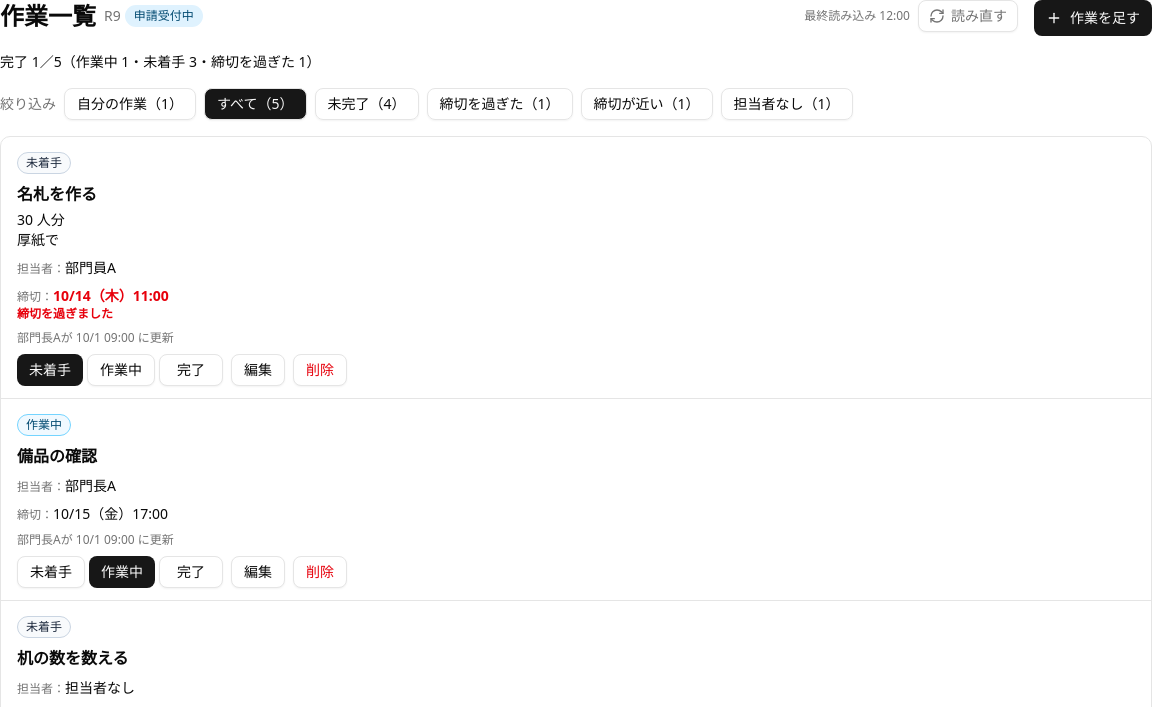
Test: T20 作業一覧：作る（部門長以上。動的 import のダイアログ） › 時刻だけは誤り（締切の日付を入れてください）
The image size is (1152, 707).
Check: the 1st list item with test id "tasks-item" is shown, box left=1, top=137, right=1151, bottom=399
Click the button with test id "tasks-add".
click(1093, 18)  # box left=1034, top=0, right=1151, bottom=36
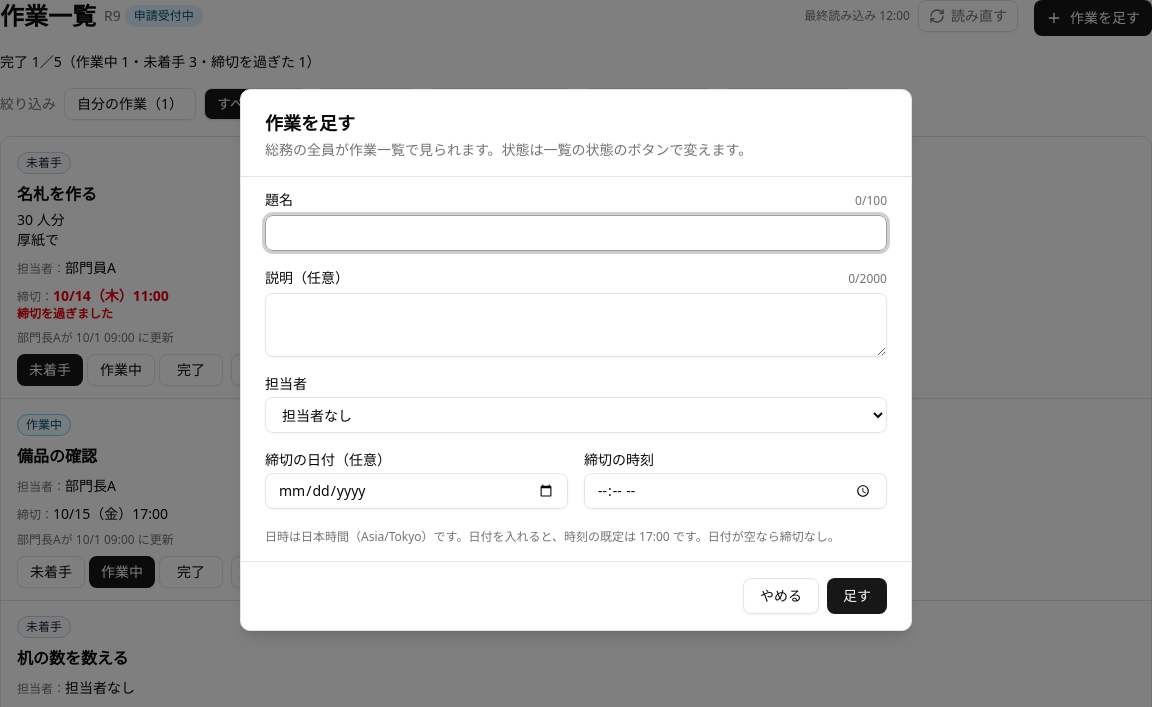
Type "名札" into the field with test id "task-title".
click(576, 233); type("名札")  # box left=265, top=215, right=887, bottom=251
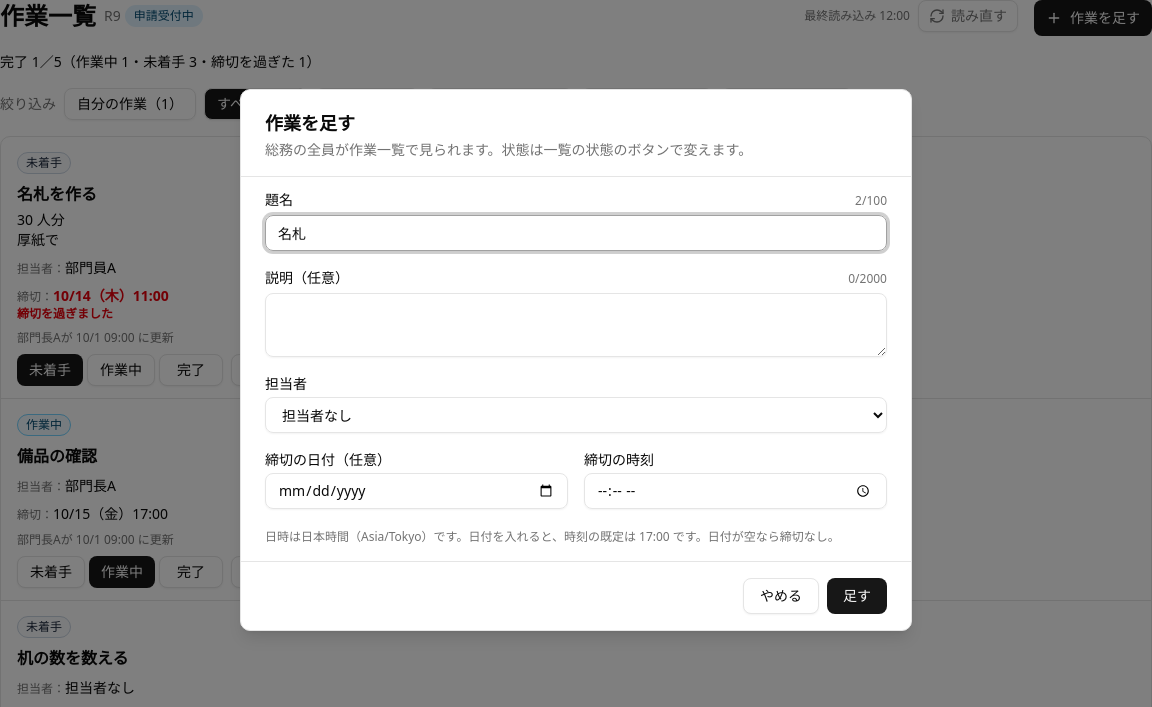
Type "09:00" into the time field with test id "task-due-time".
click(736, 491); type("09:00")  # box left=584, top=473, right=887, bottom=509
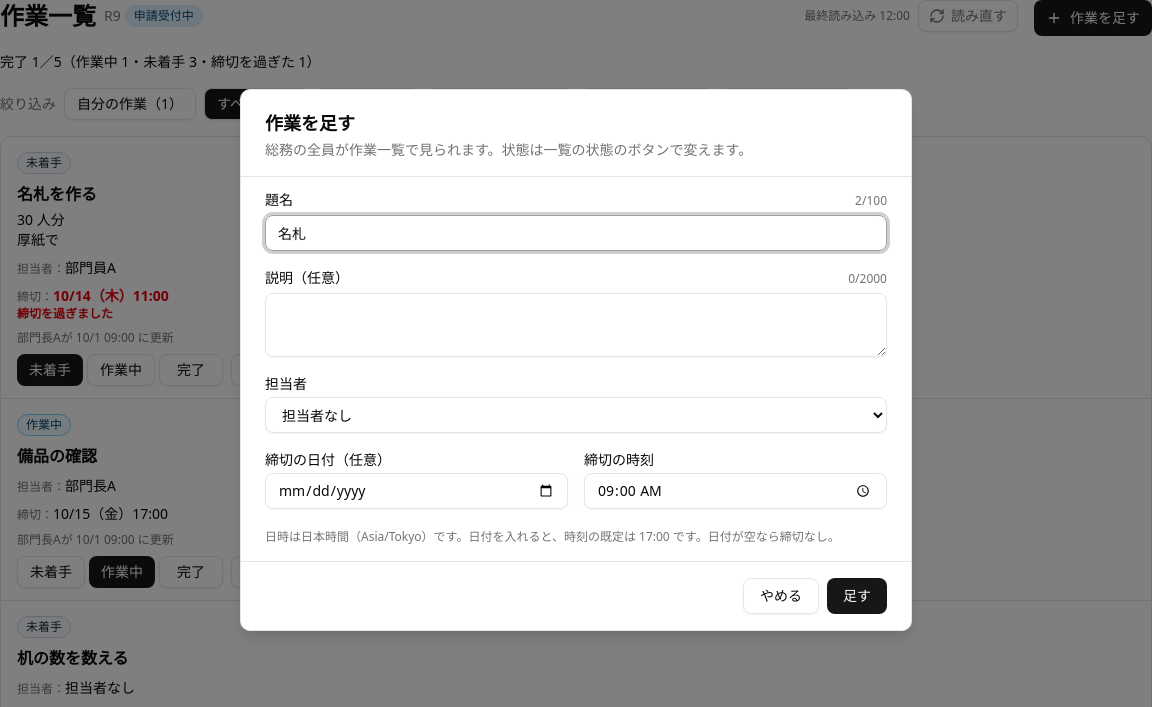
Click the button with test id "task-submit".
click(857, 596)  # box left=827, top=578, right=887, bottom=614
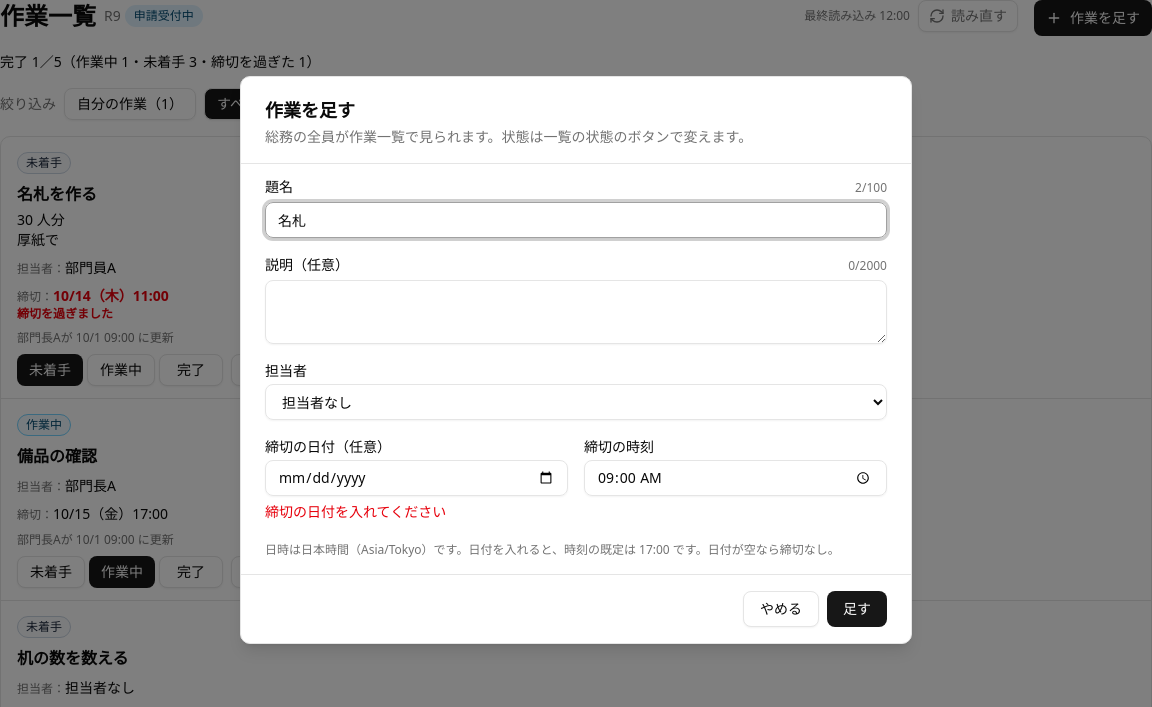
Check: the text "締切の日付を入れてください" is shown, box left=265, top=502, right=446, bottom=521
